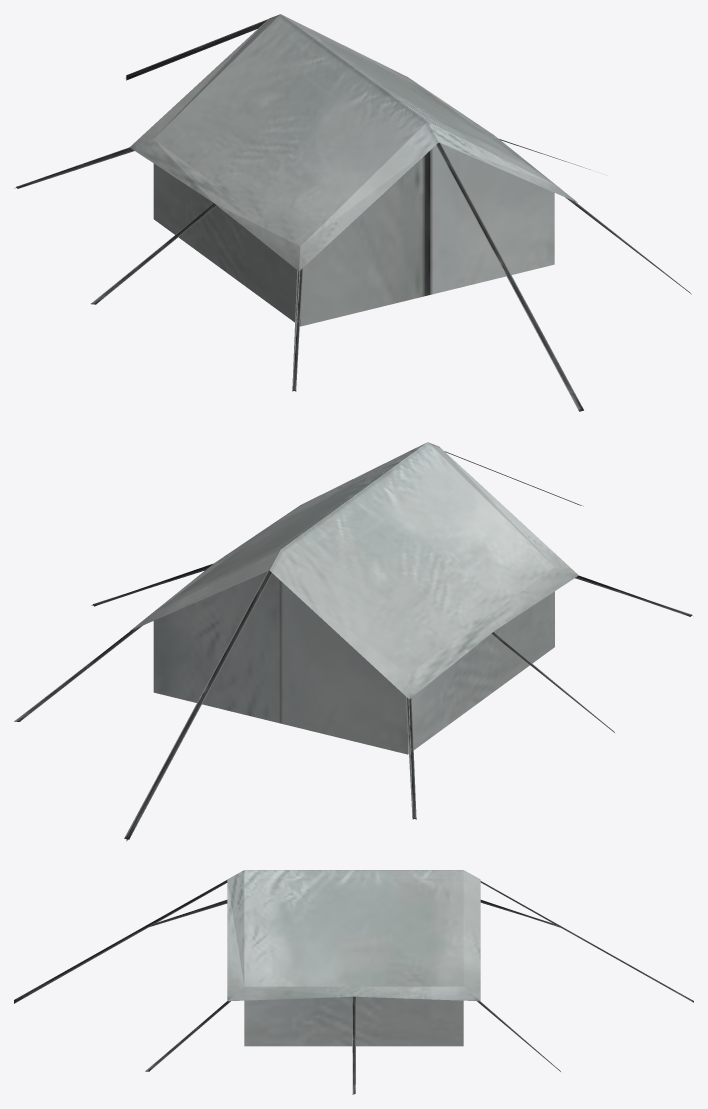
The model's file is Tent02WA.obj.
3 renders of one model, top to bottom at view 1: azimuth 30°, elevation 25°; view 2: azimuth 150°, elevation 25°; view 3: azimuth 270°, elevation 25°, orthographic. The views are drawn at different scales.
Parts seen in each view (by area): view 1: Tent02WA; view 2: Tent02WA; view 3: Tent02WA.
Part boxes in pixels (left/top/right/bottom): Tent02WA: left=14, top=14, right=691, bottom=411; Tent02WA: left=14, top=442, right=692, bottom=841; Tent02WA: left=14, top=870, right=693, bottom=1094.
Size of the model in its own units: 9.29 by 3.03 by 13.96.
